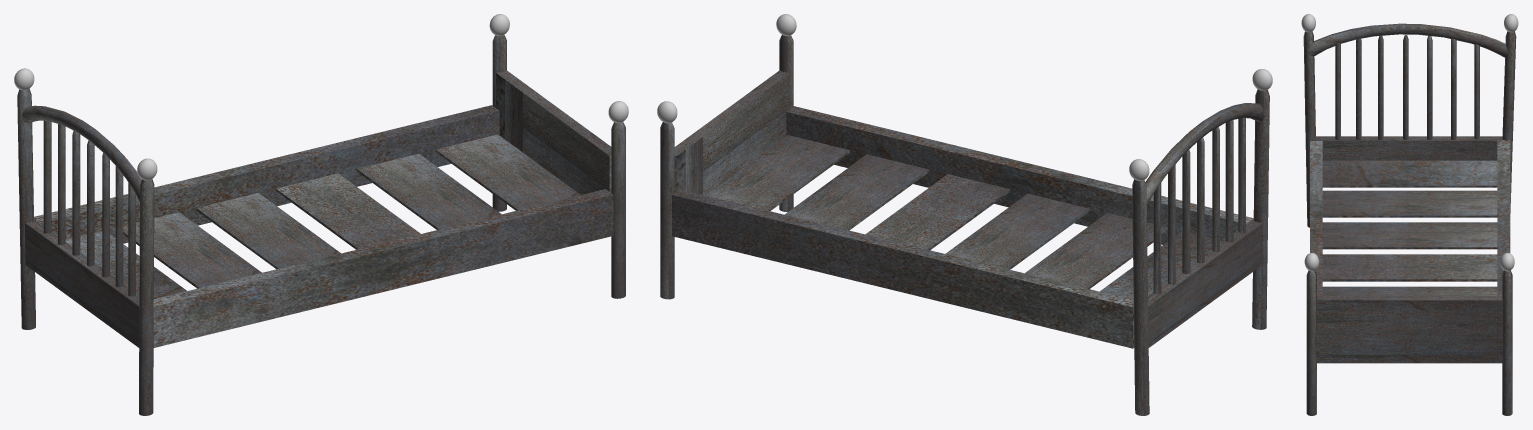
The model's file is cama de fierro oxidado.fbx.
3 renders of one model, left to right at view 1: azimuth 30°, elevation 25°; view 2: azimuth 150°, elevation 25°; view 3: azimuth 270°, elevation 25°, orthographic. The views are drawn at different scales.
Visible parts, largest first — view 1: polySurface17; view 2: polySurface17; view 3: polySurface17.
Boxes of the visible parts, bbox=[...] form: polySurface17: bbox=[14, 14, 628, 415]; polySurface17: bbox=[657, 14, 1272, 415]; polySurface17: bbox=[1301, 14, 1518, 415].
Size of the model in its own units: 1.11 by 0.5513 by 0.5151.
